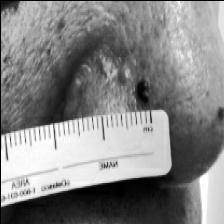Potentially Malignant Skin Tumors: (130, 82, 153, 104), (215, 98, 224, 124)
